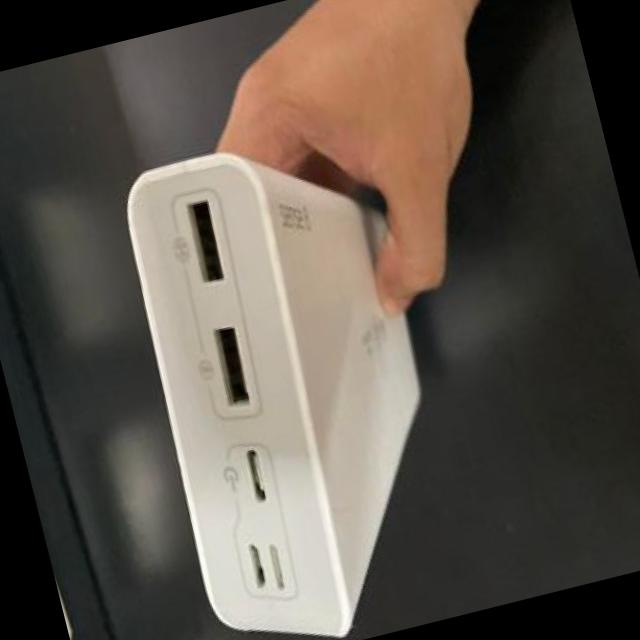power_bank: (49, 105, 499, 640)
